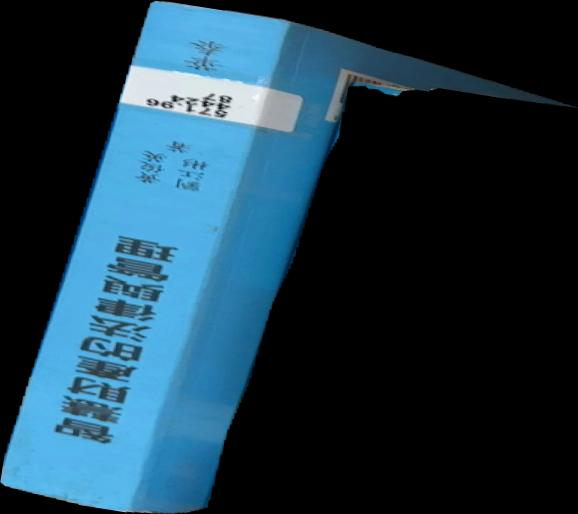reverse: (1, 1, 578, 514)
